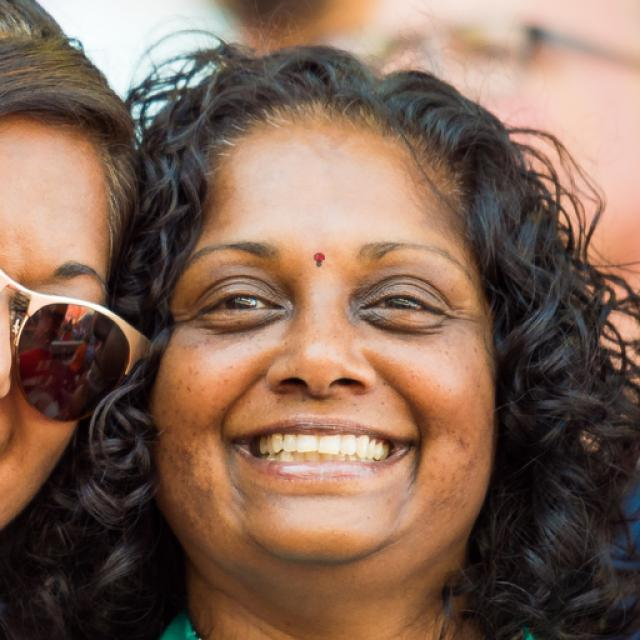Pigmentation: (418, 418, 478, 509), (165, 420, 221, 510)
